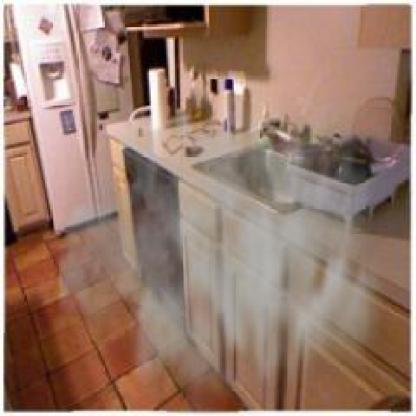Smoke: (60, 69, 403, 415)
